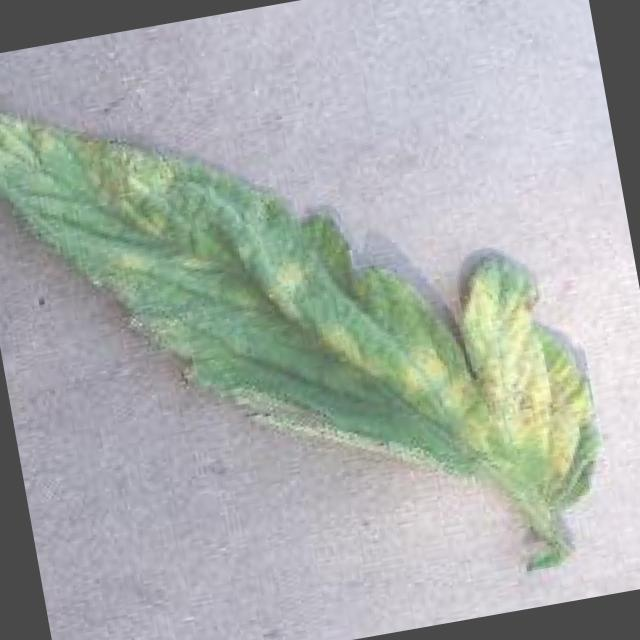leaf mold: (0, 110, 596, 545)
